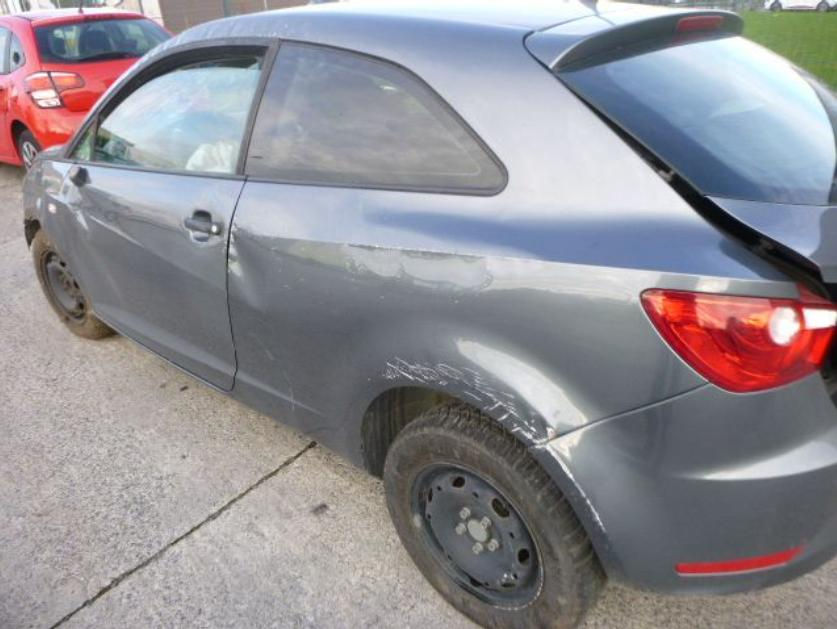Back-bumper: (527, 375, 836, 597)
Back-wheel: (383, 402, 604, 628)
Back-window: (245, 42, 504, 194)
Back-windshield: (549, 30, 836, 206)
Fender: (22, 161, 77, 273)
Front-door: (59, 39, 277, 392)
Front-wheel: (30, 231, 111, 338)
Front-window: (68, 47, 269, 173)
Hood: (23, 144, 67, 184)
Mirror: (70, 167, 88, 187)
Quarter-panel: (228, 172, 800, 469)
Roof: (244, 0, 633, 37)
Tail-light: (644, 287, 836, 394)
Trunk: (527, 3, 836, 282)
